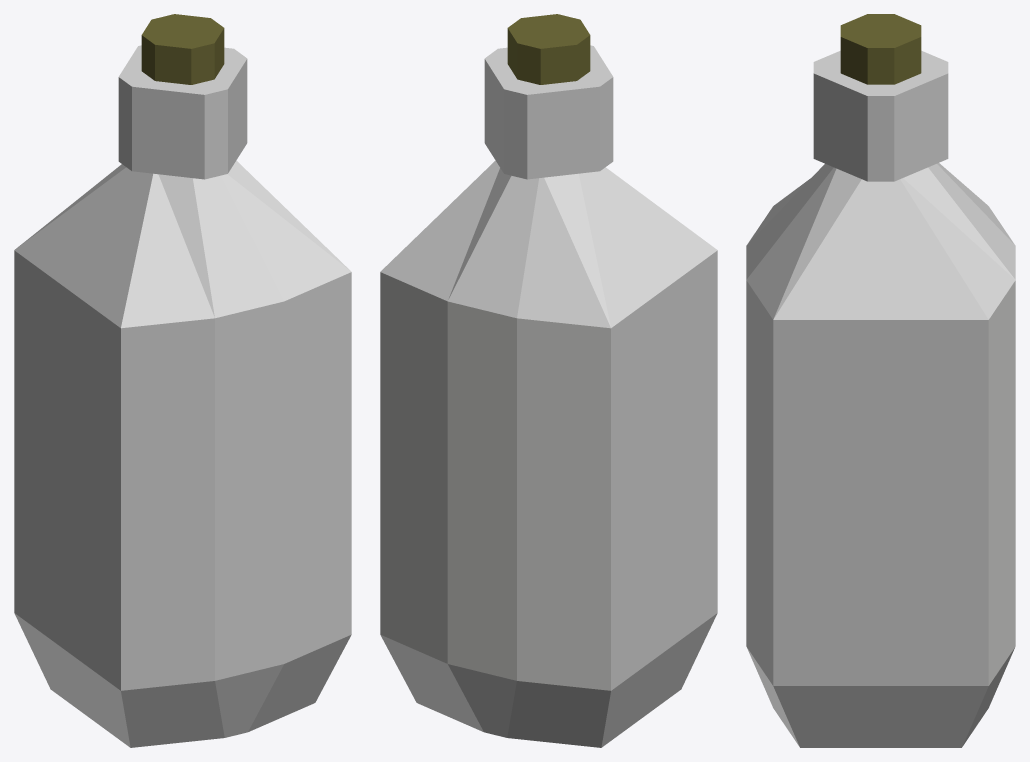
Rendered from inv_vodka.obj.
3 views of the same model, side by side, from view 1: azimuth 30°, elevation 25°; view 2: azimuth 150°, elevation 25°; view 3: azimuth 270°, elevation 25° (orthographic).
Bounding box in the file's own units: 0.1562 × 0.4297 × 0.1562.
